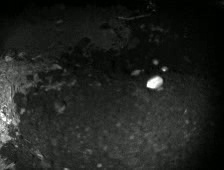corn: (145, 74, 165, 90), (129, 67, 143, 78), (150, 56, 162, 67), (159, 64, 170, 74)
